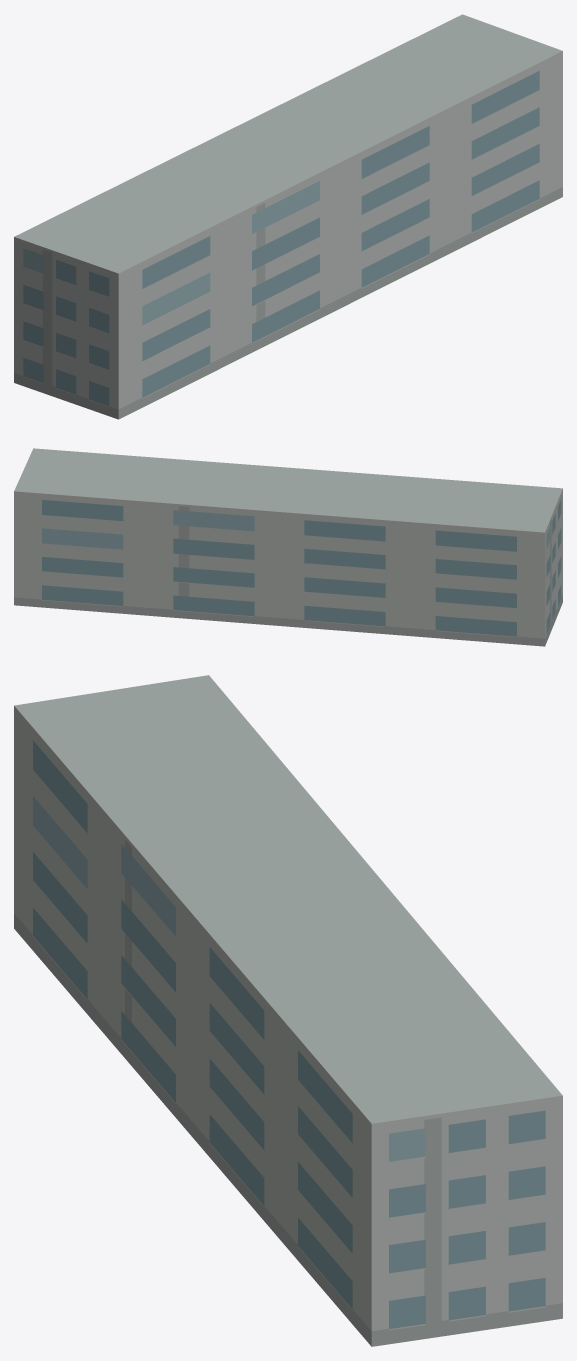
File: residential-e73bcb42-7078-4ef1-9c7e-8acb26b3b8b3.glb
3 renders of one model, top to bottom at view 1: azimuth 30°, elevation 25°; view 2: azimuth 150°, elevation 25°; view 3: azimuth 270°, elevation 25°, orthographic. The views are drawn at different scales.
Visible parts, largest first — view 1: residential-e73bcb42-7078-4ef1-9c7e-8acb26b3b8b3.tmp; view 2: residential-e73bcb42-7078-4ef1-9c7e-8acb26b3b8b3.tmp; view 3: residential-e73bcb42-7078-4ef1-9c7e-8acb26b3b8b3.tmp.
Boxes of the visible parts, x1,y1,x2,y2 form: residential-e73bcb42-7078-4ef1-9c7e-8acb26b3b8b3.tmp: (14,14,562,419); residential-e73bcb42-7078-4ef1-9c7e-8acb26b3b8b3.tmp: (14,448,562,646); residential-e73bcb42-7078-4ef1-9c7e-8acb26b3b8b3.tmp: (14,675,562,1346).
Size of the model in its own units: 60.43 by 14 by 31.24.
